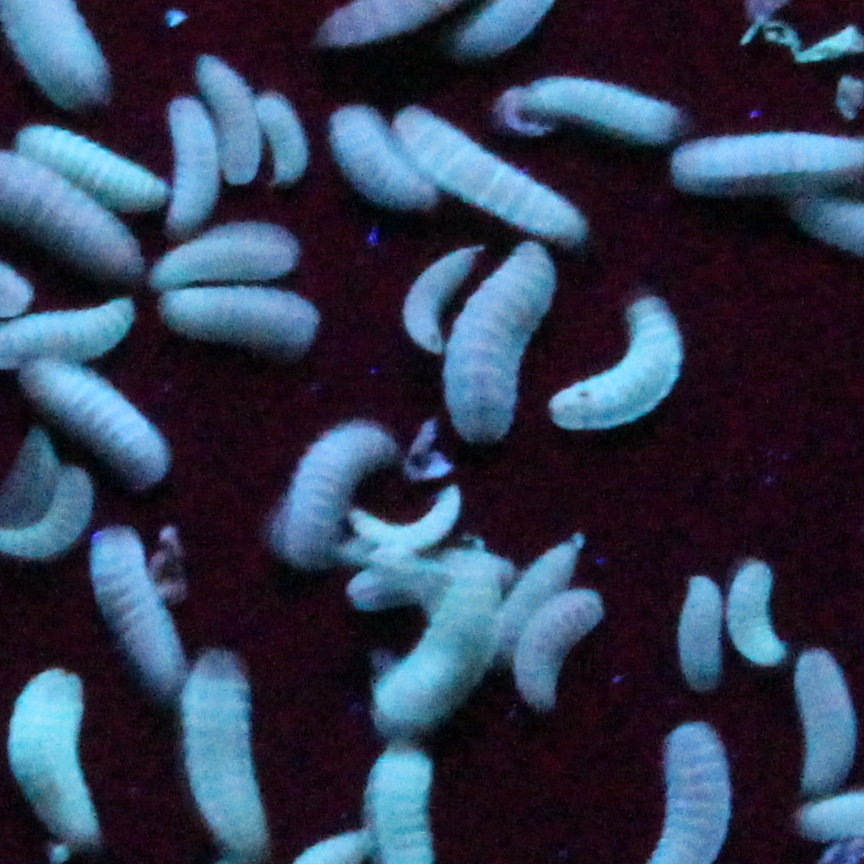larve: (400, 105, 593, 251), (552, 292, 700, 426), (446, 257, 553, 434), (383, 565, 496, 726), (184, 651, 272, 853), (276, 419, 397, 562), (18, 368, 162, 471), (6, 668, 94, 834), (89, 526, 180, 682), (17, 117, 160, 209), (328, 103, 435, 216), (514, 78, 673, 151), (501, 529, 590, 657), (512, 589, 600, 706), (793, 644, 853, 793), (196, 51, 258, 188), (159, 222, 296, 284), (165, 96, 218, 233), (405, 250, 479, 348), (158, 298, 320, 340), (348, 489, 463, 547), (731, 557, 784, 665), (679, 572, 724, 686), (258, 92, 305, 182)
